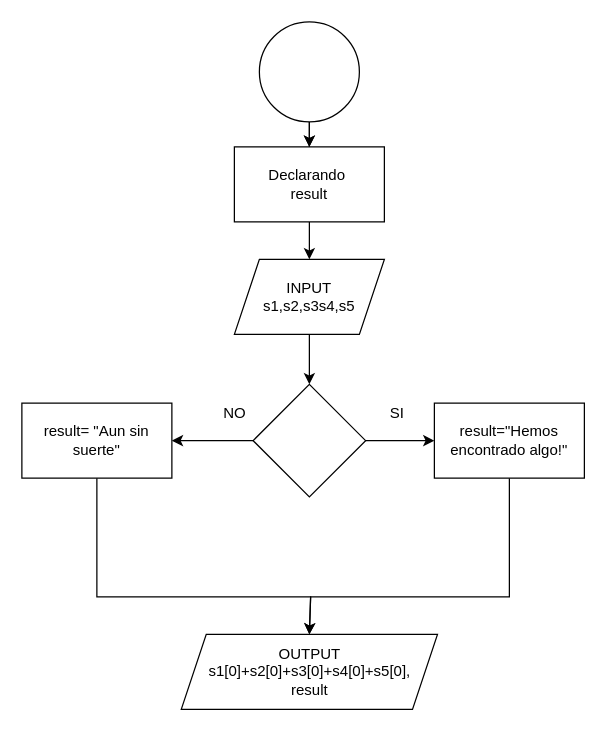
This 606x731 diagram has some shape labels left out. Here are the shapes that lost their labels. From the top down, the box of each, then its label:
(258, 21, 359, 122): FIN
(252, 383, 366, 497): s1[0]==s5[0]
